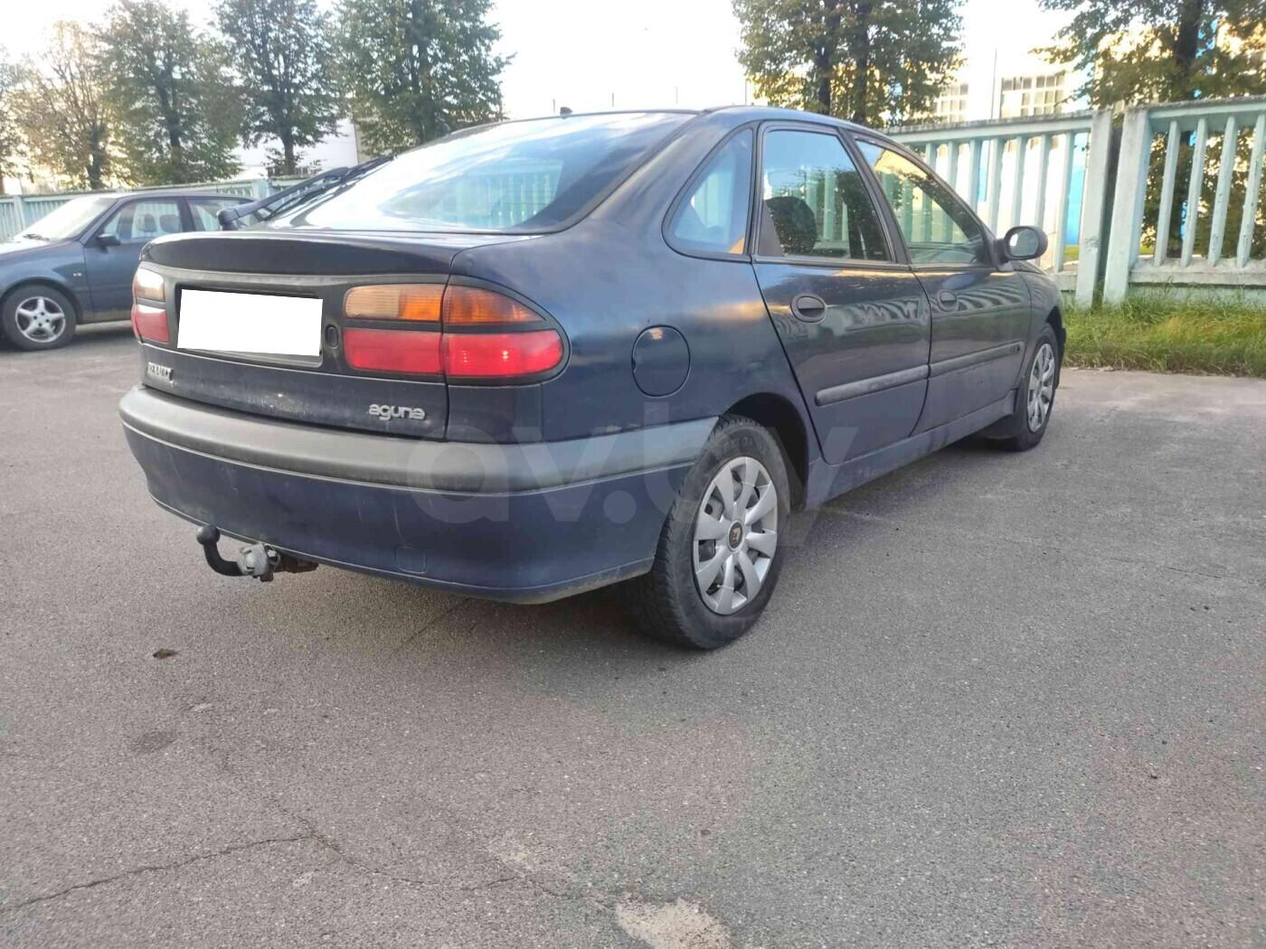Laguna_1998-2001: (111, 90, 1075, 689)
